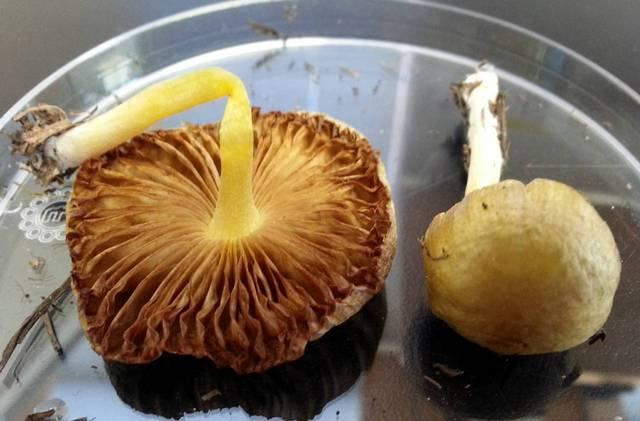edible_mushroom: (61, 66, 398, 377), (418, 63, 622, 357)
